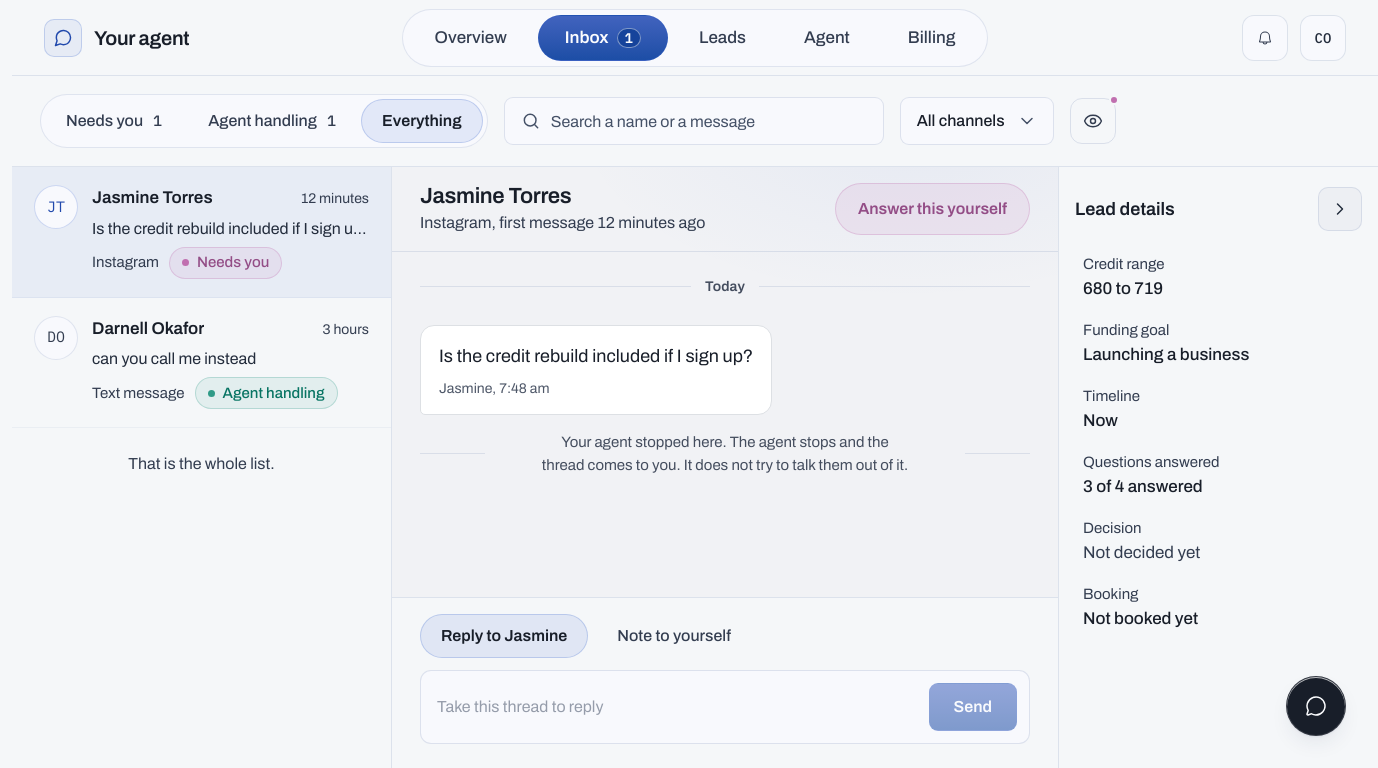
it: CoachInbox › filters by channel from a menu rather than a native select
The image size is (1378, 768).
Click the button "All channels".
click(977, 121)  # box [900,97,1054,145]
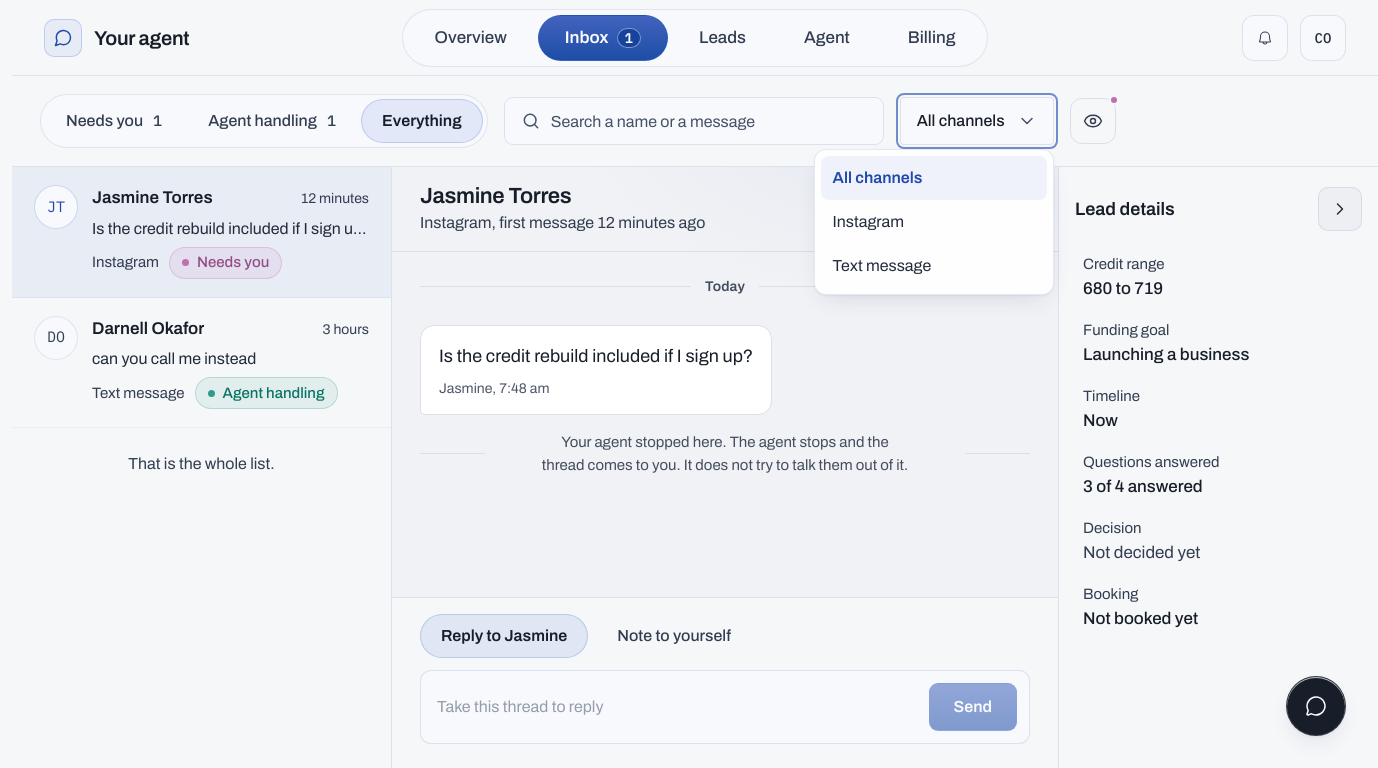
Click the menu item "Text message".
click(934, 266)  # box [820,244,1046,288]
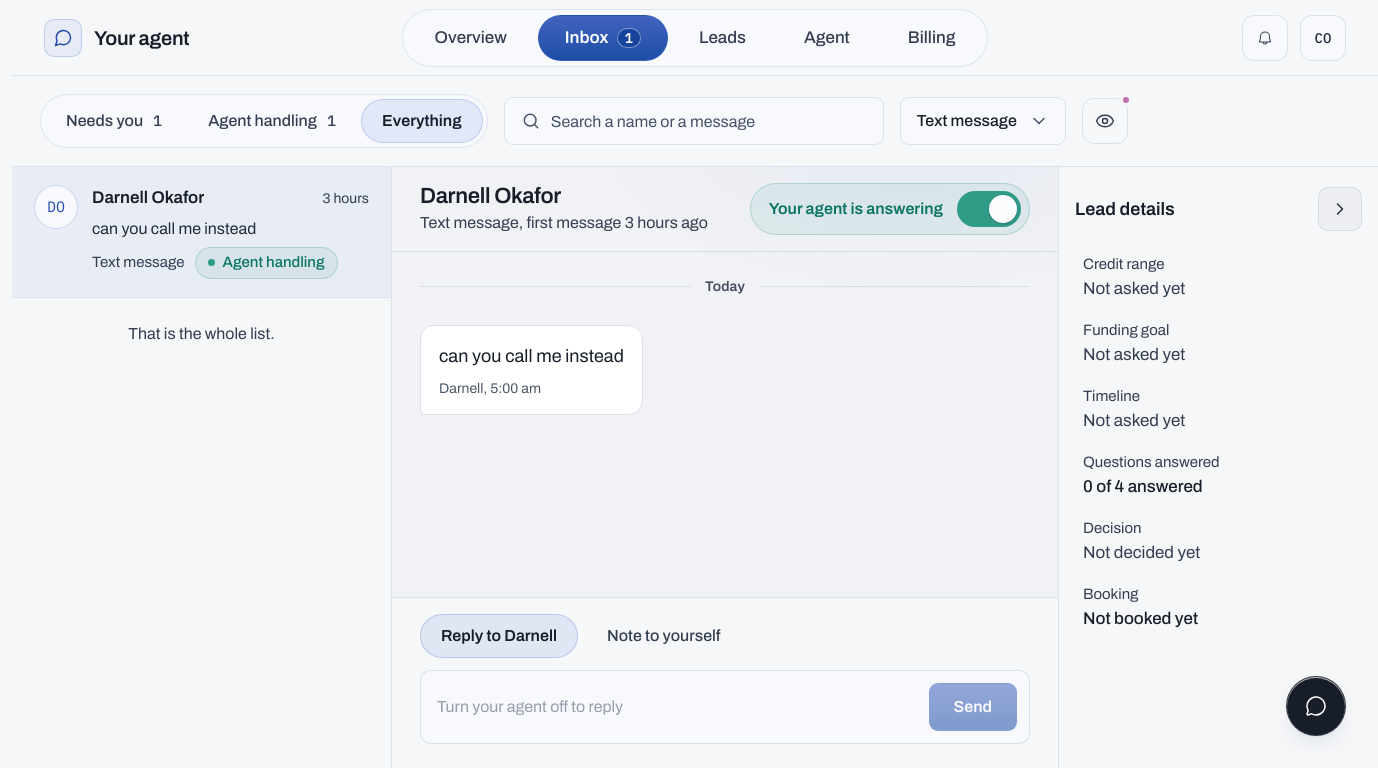
Expected: the text "Darnell Okafor" is shown, [92,185,204,210]
Expected: the button "Jasmine Torres" is gone
